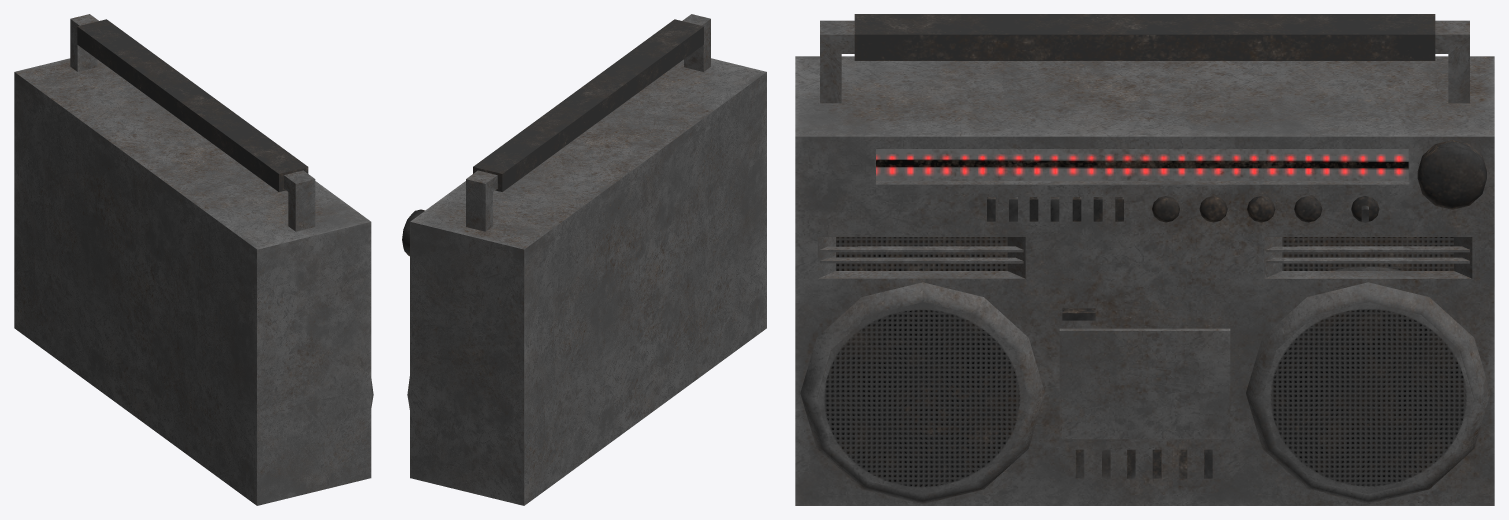
The model's file is Radio.fbx.
3 renders of one model, left to right at view 1: azimuth 30°, elevation 25°; view 2: azimuth 150°, elevation 25°; view 3: azimuth 270°, elevation 25°, orthographic. The views are drawn at different scales.
Visible parts, largest first — view 1: Radio; view 2: Radio; view 3: Radio.
Boxes of the visible parts, left/top/right/bottom form: Radio: left=14, top=14, right=373, bottom=505; Radio: left=402, top=14, right=766, bottom=505; Radio: left=795, top=14, right=1494, bottom=505.
Size of the model in its own units: 12.03 by 27.55 by 39.17.
1 material, 1 textured.
